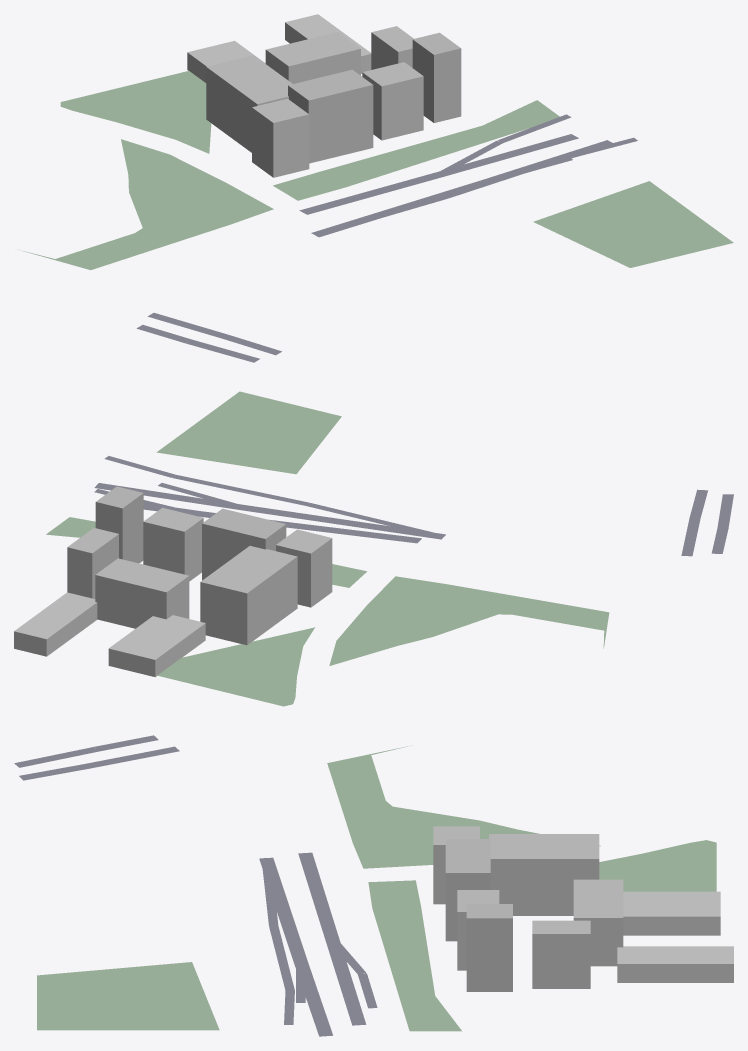
File: 120_115_mid.glb
3 renders of one model, top to bottom at view 1: azimuth 30°, elevation 25°; view 2: azimuth 150°, elevation 25°; view 3: azimuth 270°, elevation 25°, orthographic. The views are drawn at different scales.
Bounding box in the file's own units: 517 × 60.84 × 530.
